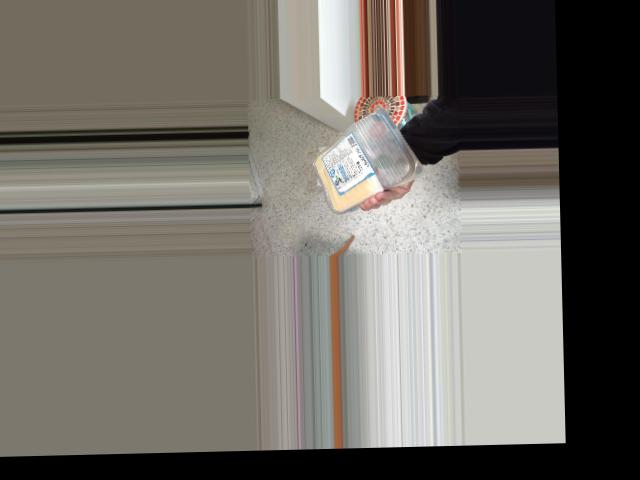cheese: (308, 101, 397, 207)
